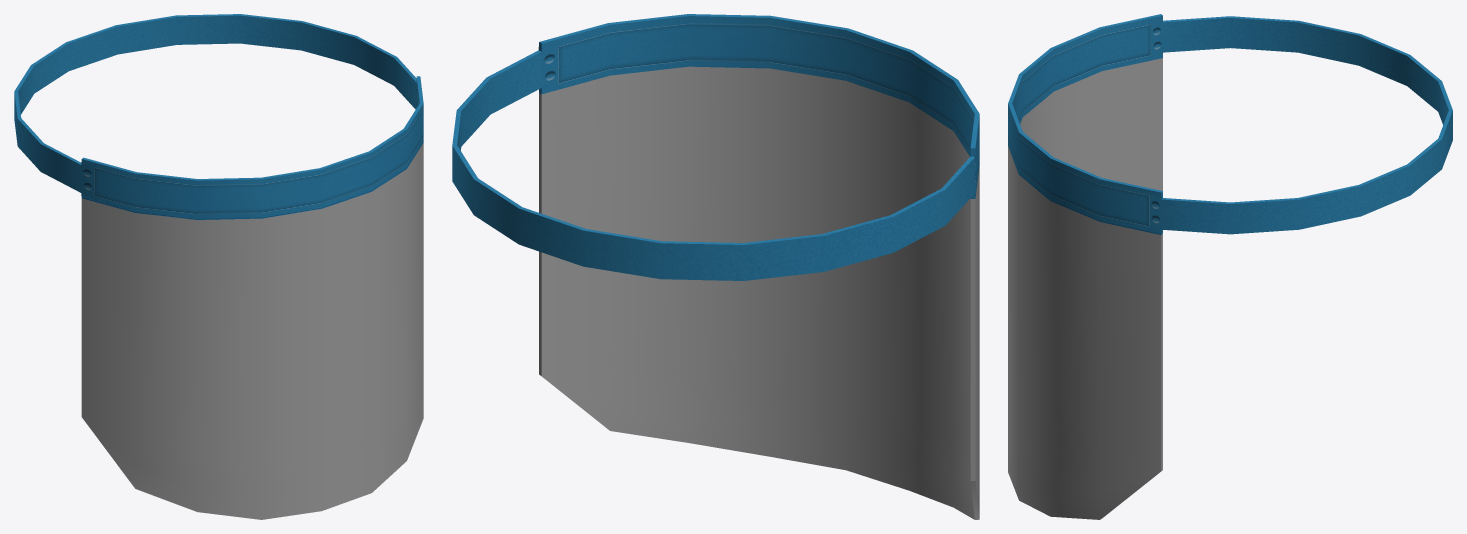
File: face_shield.fbx
3 renders of one model, left to right at view 1: azimuth 30°, elevation 25°; view 2: azimuth 150°, elevation 25°; view 3: azimuth 270°, elevation 25°, orthographic. The views are drawn at different scales.
Parts seen in each view (by area): view 1: face_shield; view 2: face_shield; view 3: face_shield.
Part boxes in pixels (x1,y1,x2,y2): face_shield: [14, 14, 423, 519]; face_shield: [452, 14, 979, 519]; face_shield: [1008, 14, 1452, 519].
Size of the model in its own units: 0.8519 by 0.7803 by 0.852.
2 materials, 1 textured.
